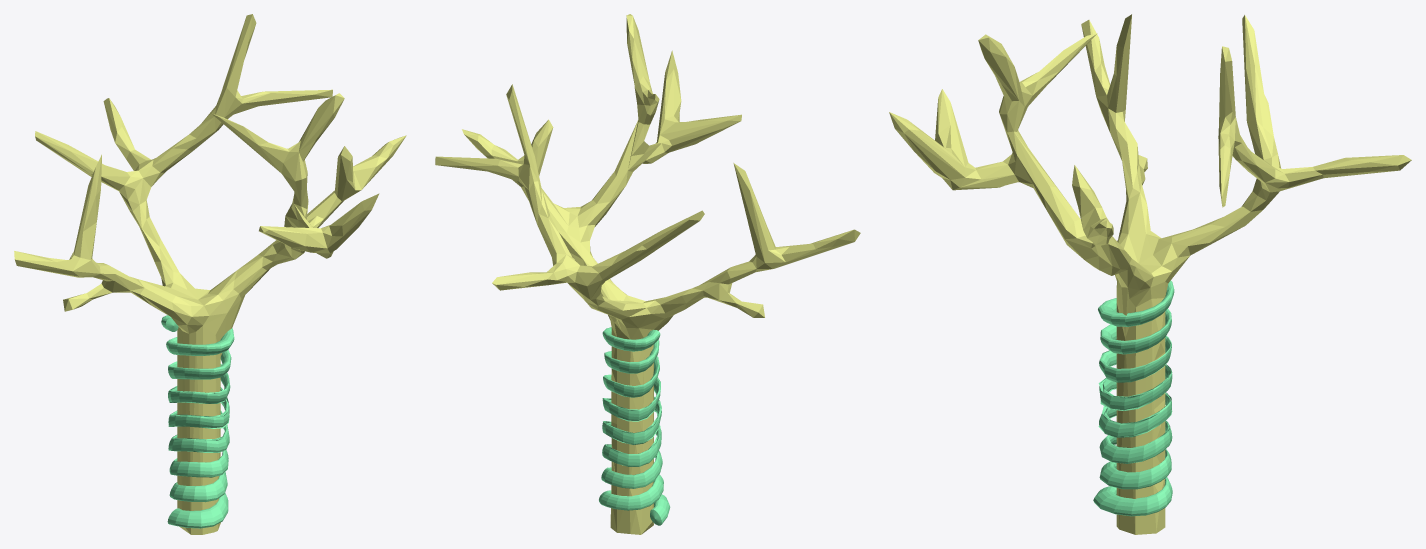
File: tress2.fbx
3 renders of one model, left to right at view 1: azimuth 30°, elevation 25°; view 2: azimuth 150°, elevation 25°; view 3: azimuth 270°, elevation 25°, orthographic. The views are drawn at different scales.
Parts seen in each view (by area): view 1: PM3D_Cylinder3D1, PM3D_Helix3D_1; view 2: PM3D_Cylinder3D1, PM3D_Helix3D_1; view 3: PM3D_Cylinder3D1, PM3D_Helix3D_1.
Boxes of the visible parts, x1,y1,x2,y2 form: PM3D_Cylinder3D1: (14, 14, 406, 534); PM3D_Helix3D_1: (161, 315, 234, 528); PM3D_Cylinder3D1: (435, 14, 860, 534); PM3D_Helix3D_1: (599, 327, 670, 525); PM3D_Cylinder3D1: (889, 14, 1411, 534); PM3D_Helix3D_1: (1093, 280, 1174, 516).
Bounding box in the file's own units: 4.04 × 4.44 × 3.99.
